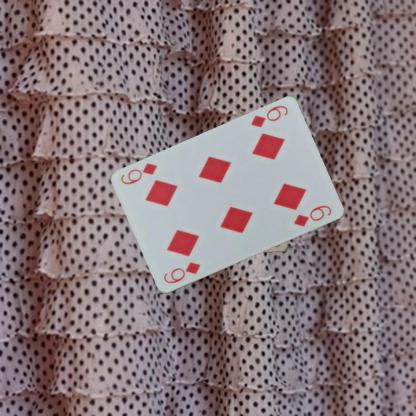6d: (160, 260, 202, 286), (248, 103, 289, 129)
